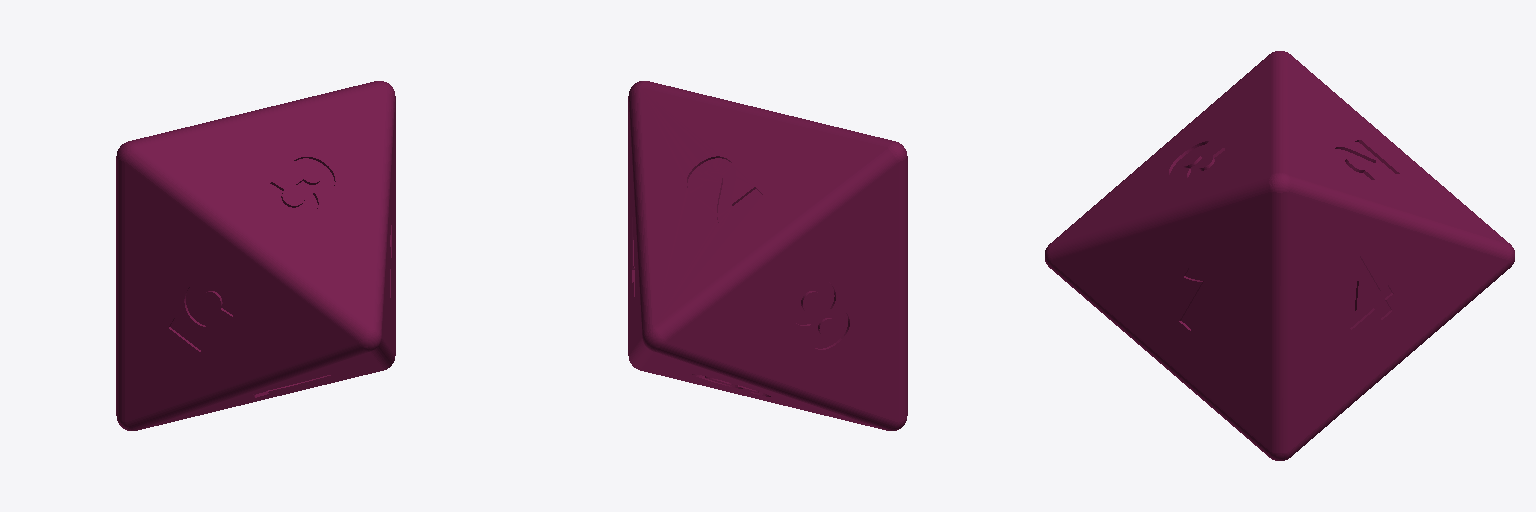
The model's file is dado8caras.obj.
The picture shows the model from 3 angles: view 1: azimuth 30°, elevation 25°; view 2: azimuth 150°, elevation 25°; view 3: azimuth 270°, elevation 25°; orthographic projection.
Parts seen in each view (by area): view 1: 8_faces_chiffres; view 2: 8_faces_chiffres; view 3: 8_faces_chiffres.
Boxes of the visible parts, box(x1,y1,x2,y2) form: 8_faces_chiffres: box(116, 81, 395, 430); 8_faces_chiffres: box(628, 81, 907, 430); 8_faces_chiffres: box(1045, 51, 1514, 460).
Size of the model in its own units: 11.28 by 11.28 by 16.75.